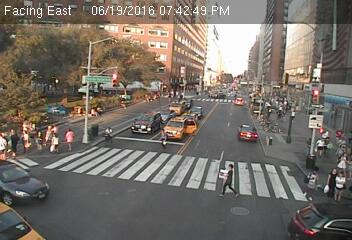neg: (289, 28, 321, 71), (104, 158, 135, 200), (57, 178, 83, 213), (155, 165, 178, 195), (194, 117, 211, 140), (234, 41, 250, 62), (167, 44, 178, 59)
pos: (214, 160, 243, 199), (296, 165, 323, 201), (61, 126, 81, 152), (154, 127, 173, 151), (100, 124, 118, 148)
